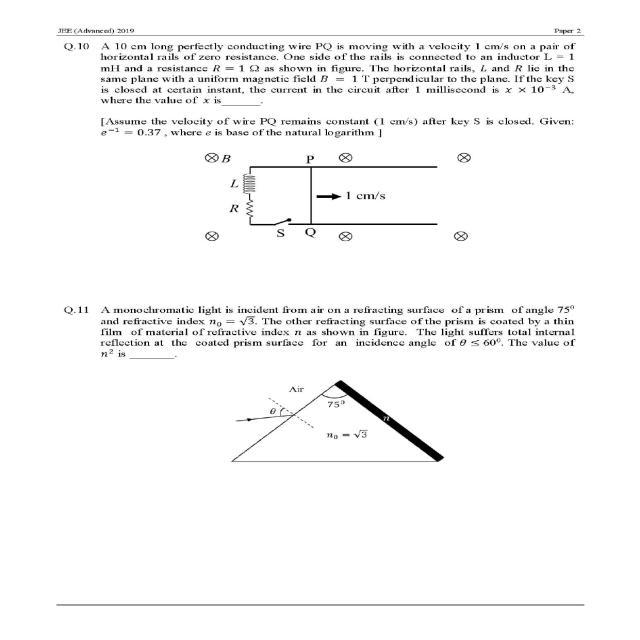Question_Answer_Block: (49, 37, 596, 276), (49, 291, 596, 473)
Question_Block: (49, 37, 596, 276), (49, 291, 596, 473)
Question_Paper_Area: (49, 37, 596, 598)
